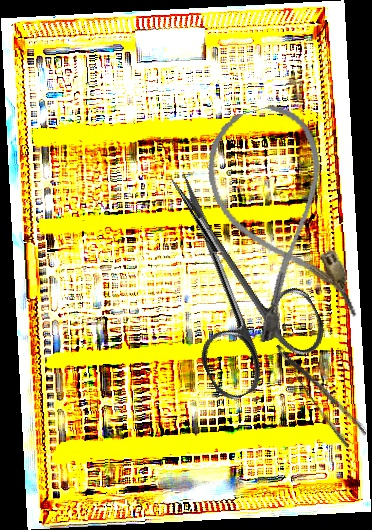Cannula: (194, 97, 362, 345)
Dressing Forceps: (273, 331, 369, 450)
Iris Scissors: (119, 148, 336, 406)
